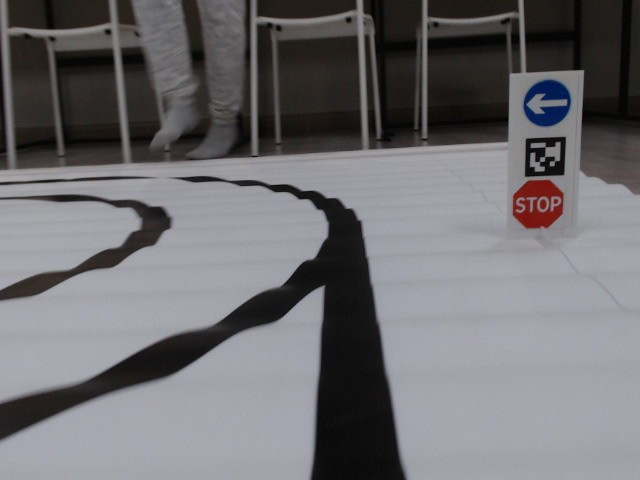Stop: (512, 180, 565, 229)
